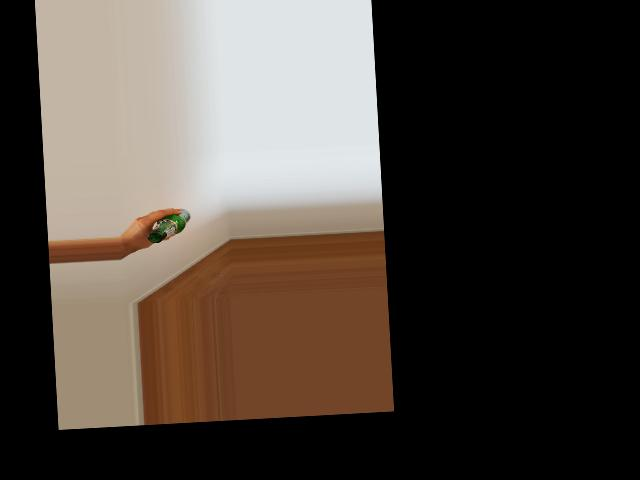beer: (145, 208, 191, 244)
